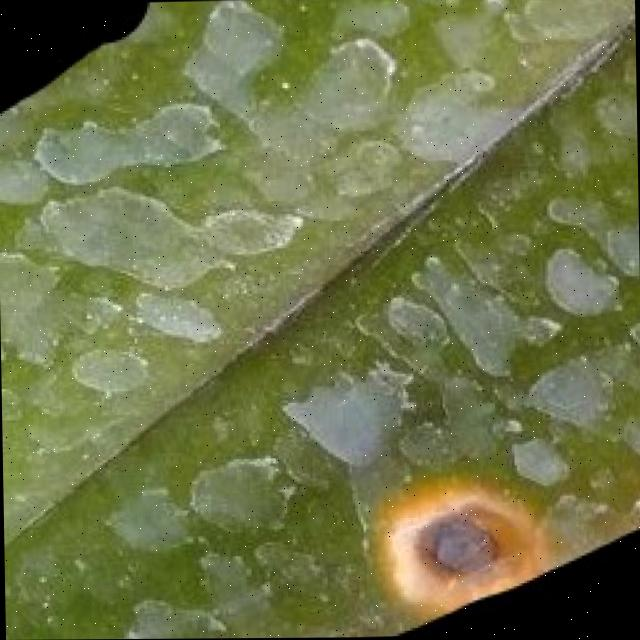mite: (236, 0, 521, 118), (594, 85, 637, 141), (406, 0, 472, 7)
sunburn: (367, 465, 556, 616)
